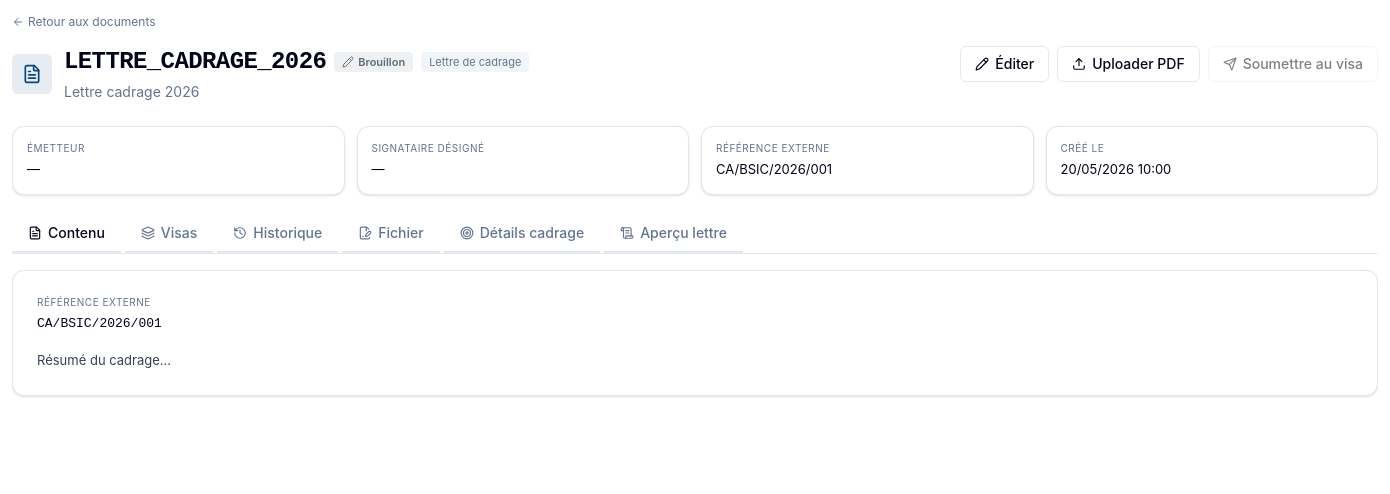
Test: DocumentDetailPage (Lot 8.2.B P2) › 8. Tab Fichier sans fichier : empty state + bouton upload (émetteur)
Expected: the heading "LETTRE_CADRAGE_2026" is shown, [64,46,326,78]
Click the tab with test id "tab-fichier": (391, 234) [342,214,440,252]
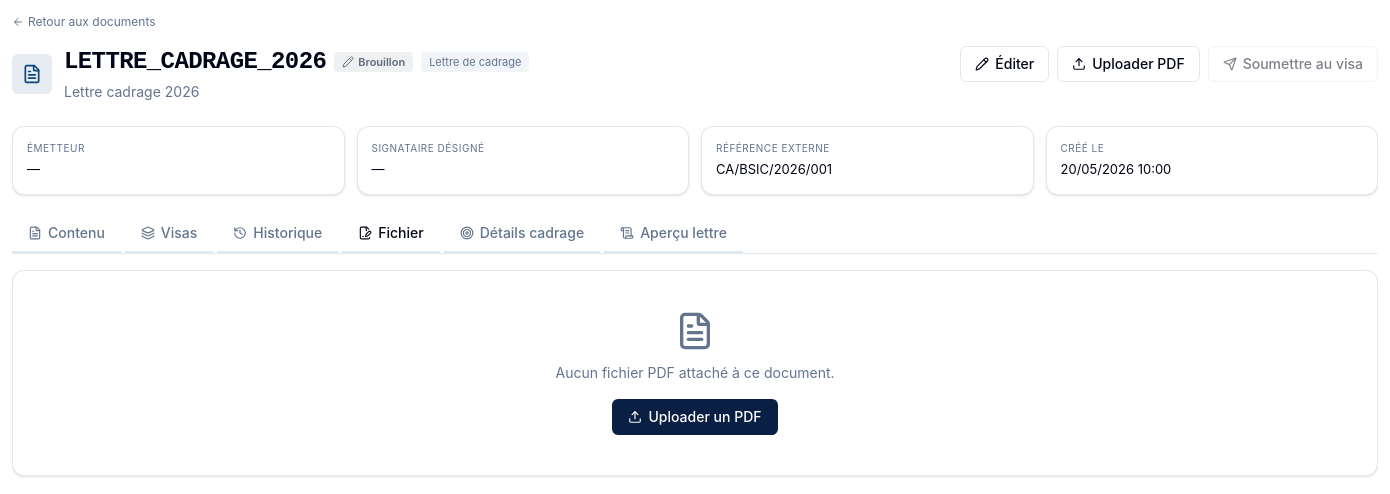
Expected: the element with test id "fichier-empty" is shown, [12,270,1378,476]
Expected: the button with test id "btn-upload-fichier-tab" is shown, [612,398,778,434]
